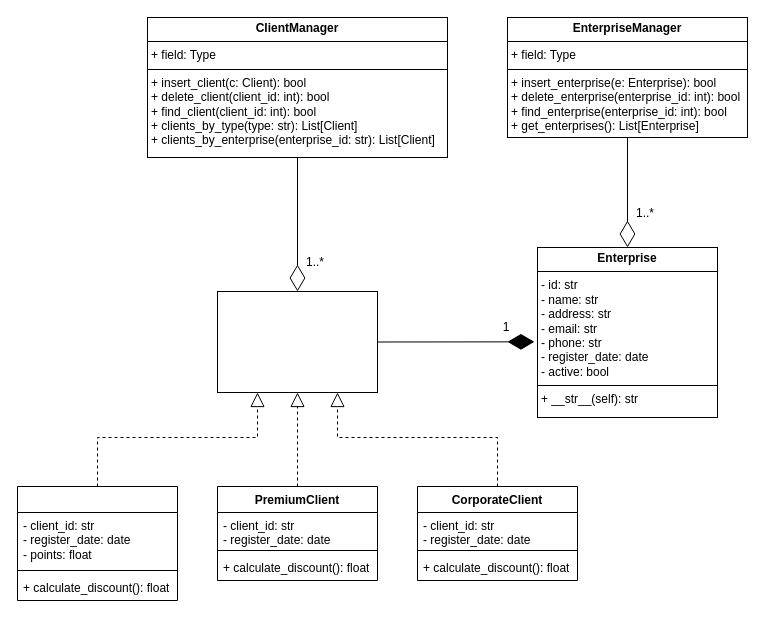
Image size: 765x621. Some labels were removed from this diagram. The box of each missing label's shape, as (x1, y1, x2, y2) in pixels:
<<abstract>> Client + enterprise: Enterprise + calculate_discount(): float: (216, 290, 378, 392)
RegularClient: (16, 486, 178, 600)
